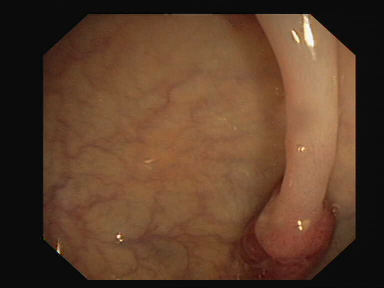polyp: (224, 140, 354, 266)
